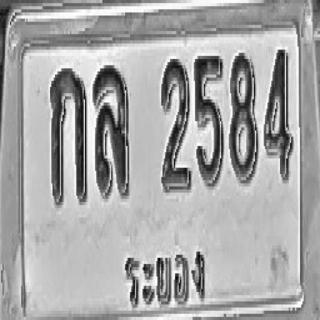A01: (50, 67, 88, 207)
A36: (92, 64, 129, 200)
N02: (161, 58, 191, 191)
N04: (264, 48, 292, 182)
N05: (194, 53, 223, 186)
N08: (229, 50, 257, 183)
P53: (118, 237, 211, 313)
